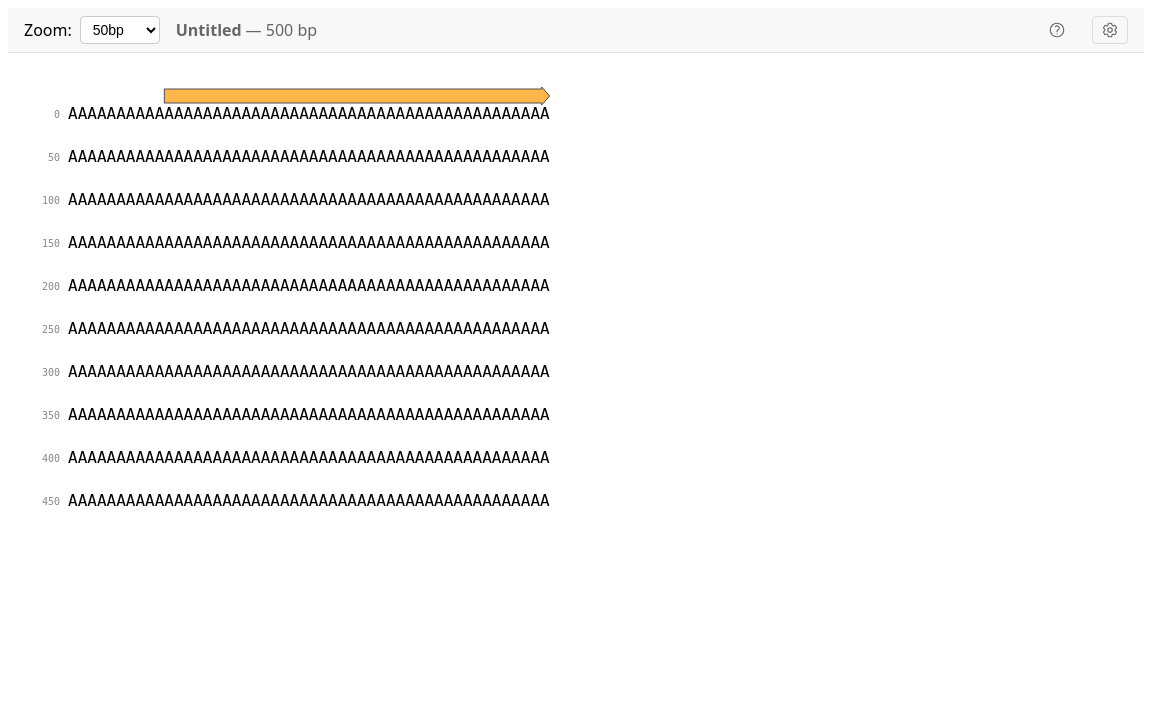
Test: SequenceEditor › config panel › renders color swatch for each annotation type
The image size is (1152, 720).
What coordinates should you click on to do the following:
click the button with class "config-button"
I would click on:
 (1110, 30)
Its box is top-left (1092, 16), bottom-right (1128, 44).
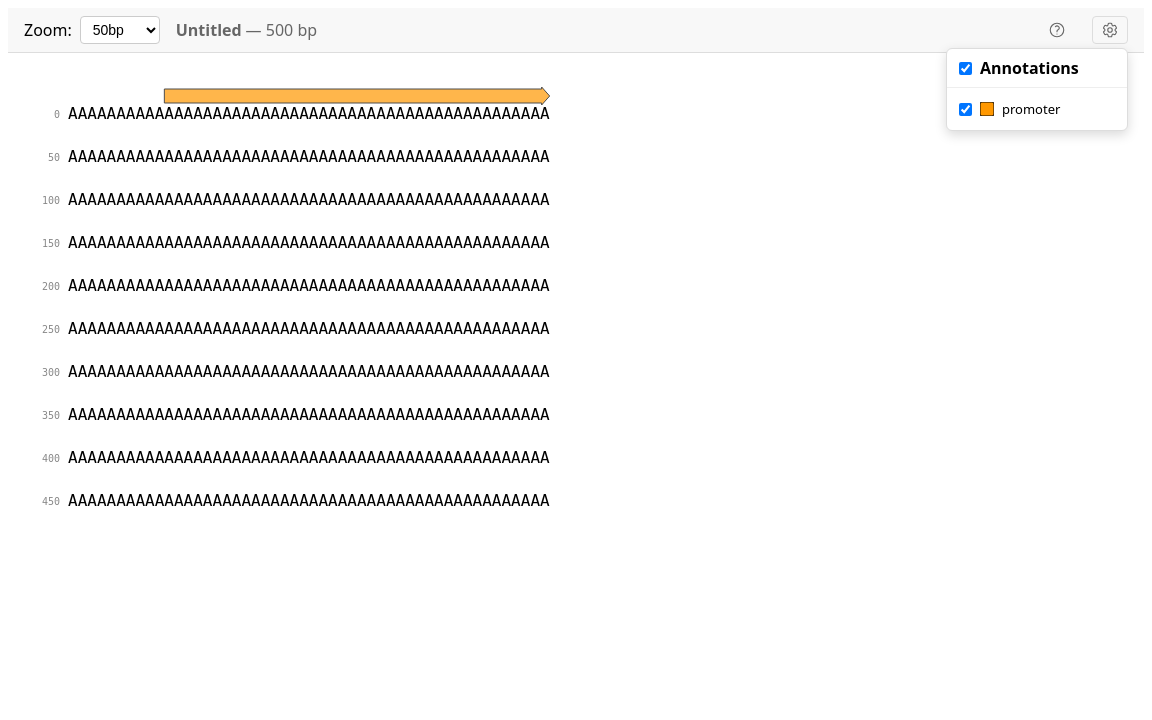
Expected: the icon with class "type-swatch" is shown, top-left (980, 102), bottom-right (994, 116)
